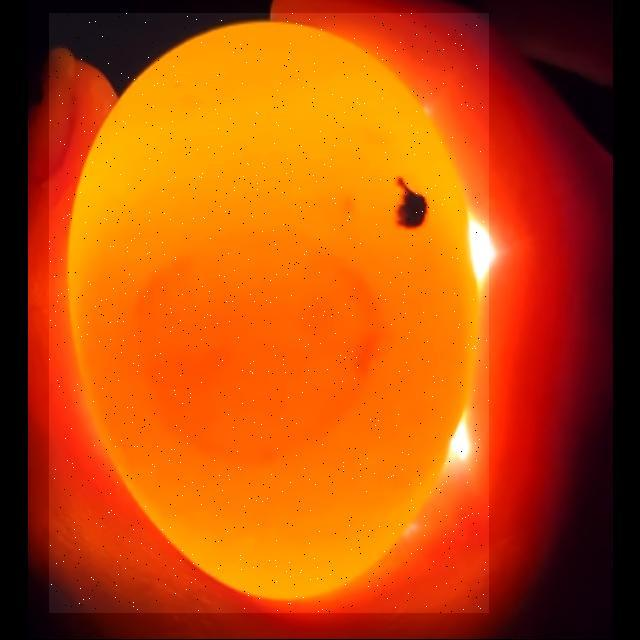Infertile: (49, 13, 489, 613)
